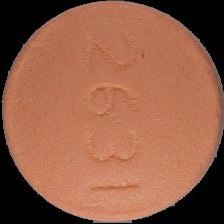68258-7013: (0, 0, 224, 224)
